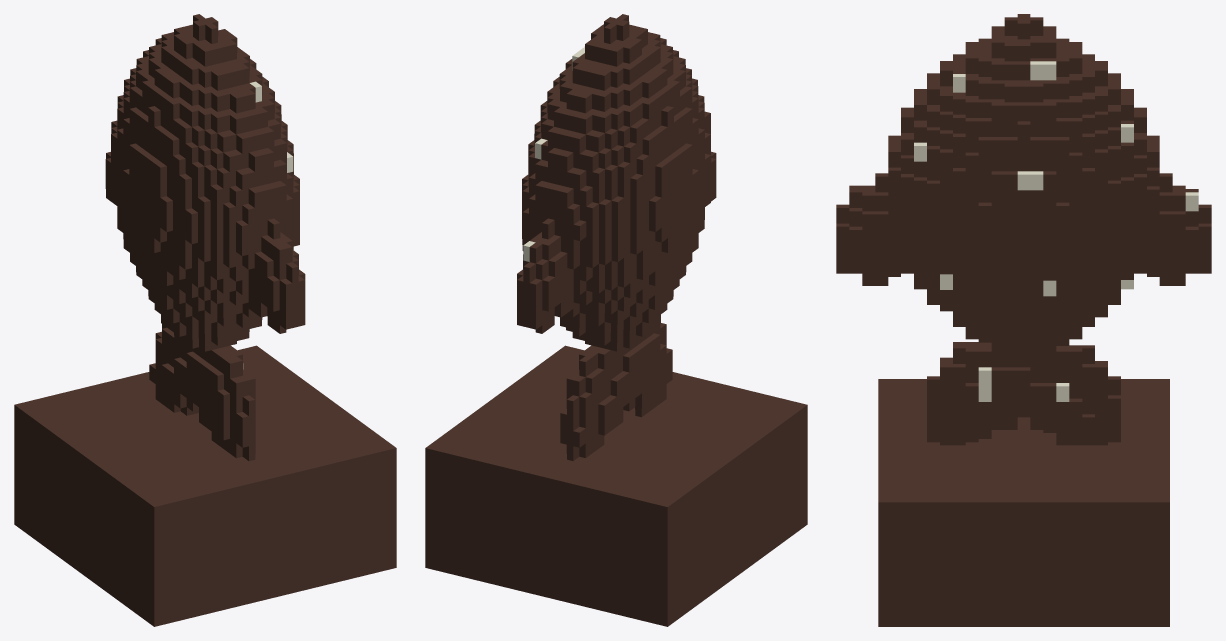
File: fih_statue_dirty.fbx
3 renders of one model, left to right at view 1: azimuth 30°, elevation 25°; view 2: azimuth 150°, elevation 25°; view 3: azimuth 270°, elevation 25°, orthographic. The views are drawn at different scales.
Visible parts, largest first — view 1: Cube; view 2: Cube; view 3: Cube.
Boxes of the visible parts, x1,y1,x2,y2 form: Cube: (14,14,396,626); Cube: (425,14,807,626); Cube: (836,14,1211,626).
Size of the model in its own units: 57.59 by 119 by 74.09.
1 material, 1 textured.
